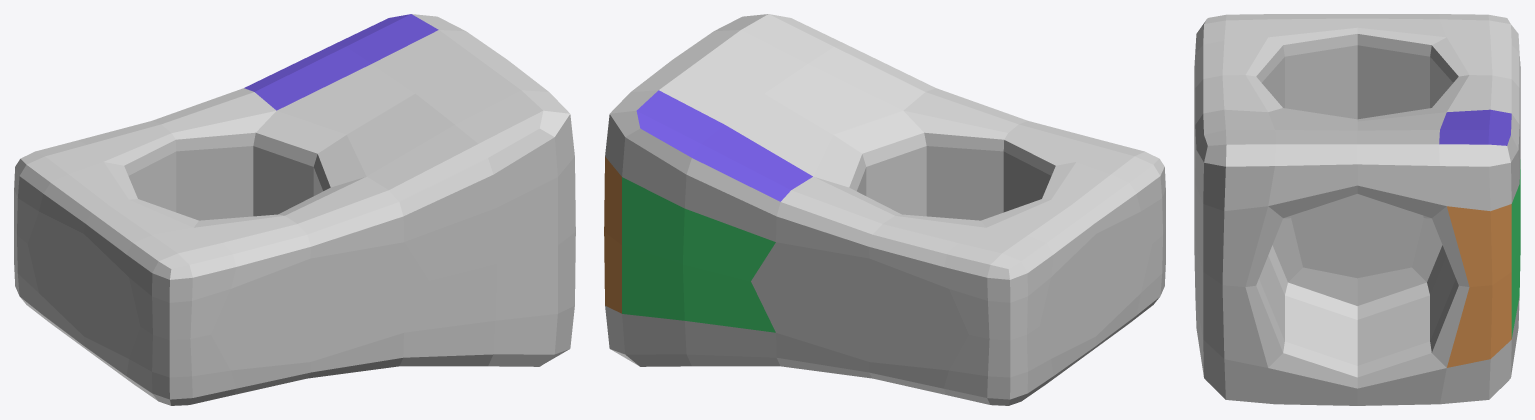
The picture shows the model from 3 angles, left to right: view 1: azimuth 30°, elevation 25°; view 2: azimuth 150°, elevation 25°; view 3: azimuth 270°, elevation 25°; orthographic projection.
Parts seen in each view (by area): view 1: Base3.001; view 2: Base3.001; view 3: Base3.001.
Boxes of the visible parts, left/top/right/bottom form: Base3.001: left=14, top=14, right=575, bottom=405; Base3.001: left=604, top=14, right=1165, bottom=405; Base3.001: left=1194, top=14, right=1520, bottom=405.
Bounding box in the file's own units: 1.5 × 0.8611 × 1.
